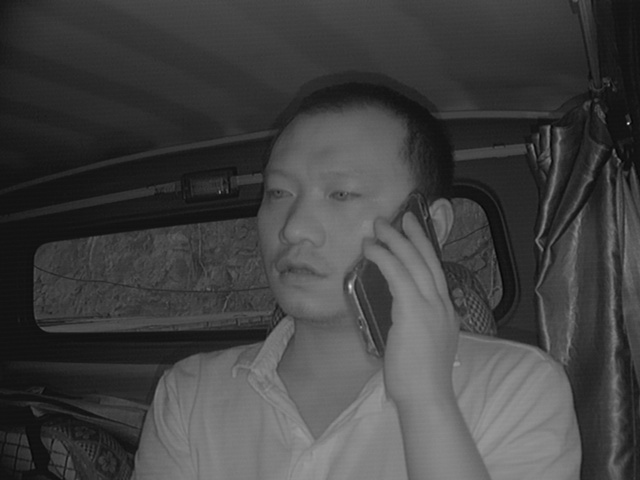hand: (359, 213, 471, 405)
